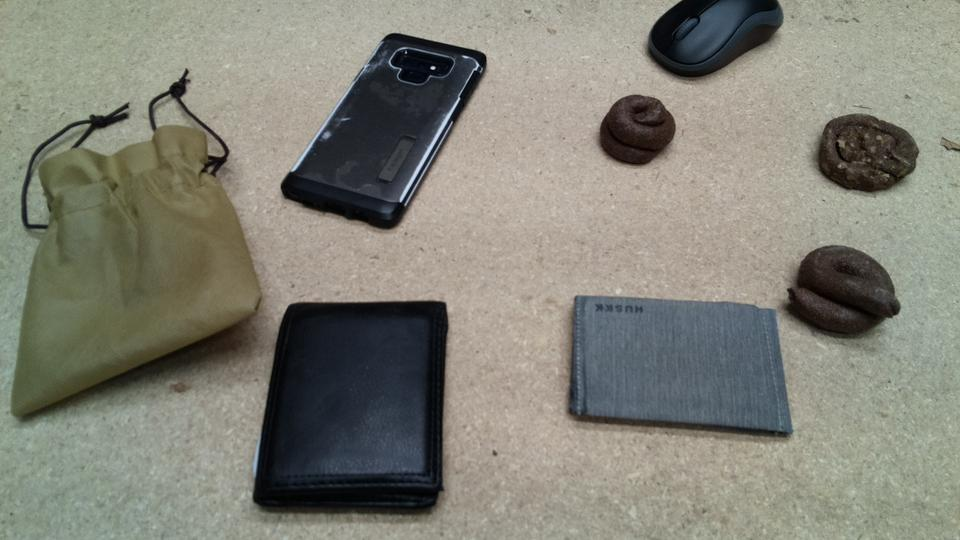poop: (785, 242, 903, 339), (815, 111, 921, 195), (598, 92, 680, 168)
